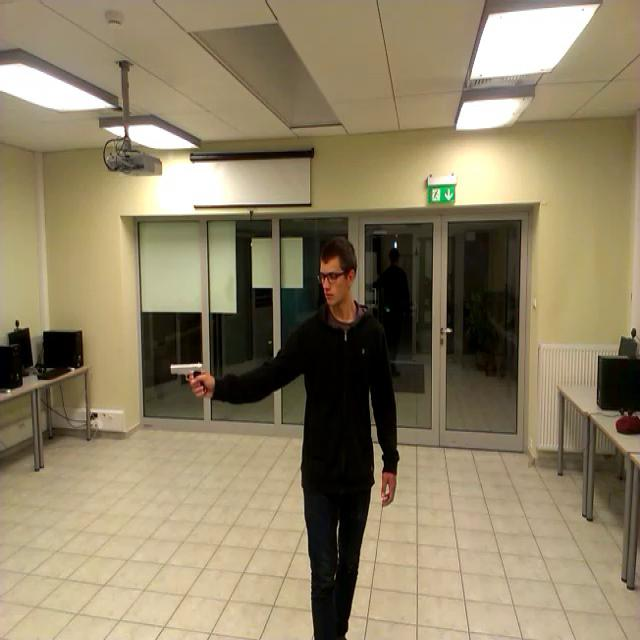handgun: (162, 349, 206, 417)
